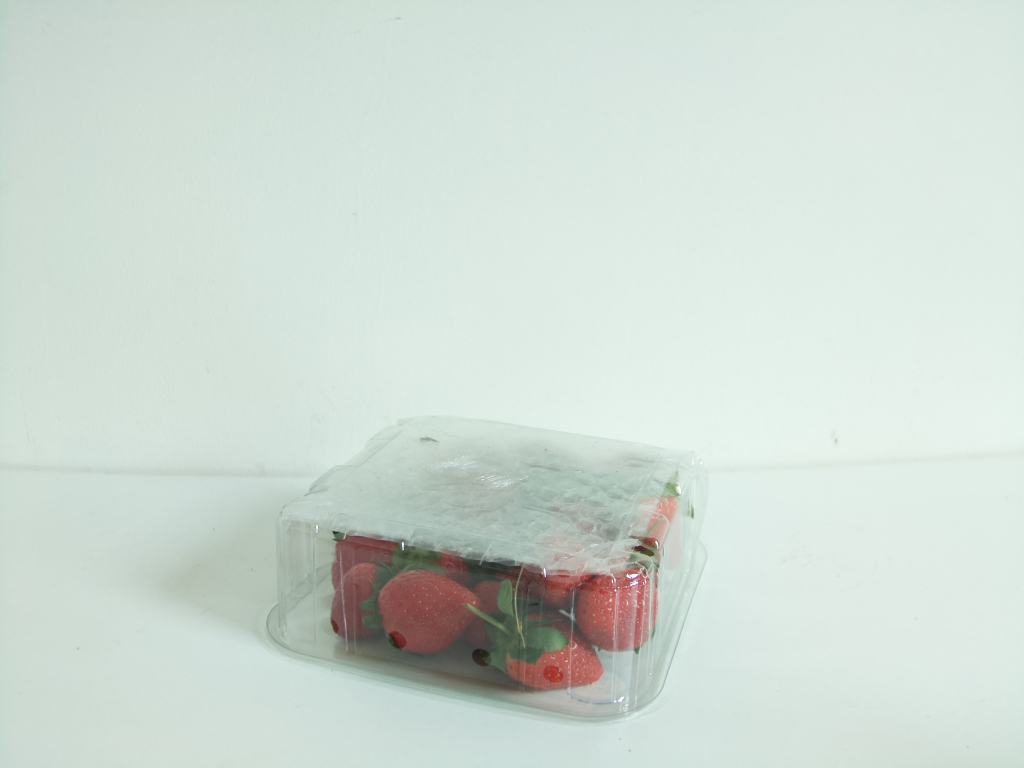soft-fruit: (245, 412, 717, 731)
